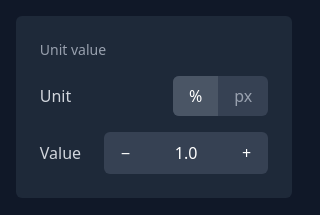
Test case: App.vue › for % unit, input > 100 resets to previous valid value
Replace the text in the field with "50" at (186, 153), box [146, 141, 226, 165]
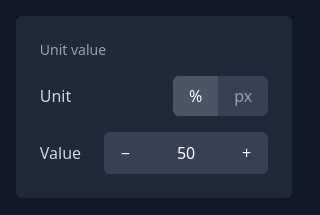
Leave the field, box [146, 141, 226, 165]
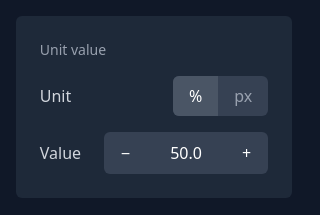
Result: the field holds "50.0"
Replace the text in the field with "150" at (186, 153), box [146, 141, 226, 165]
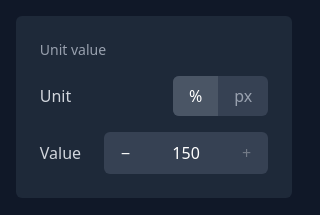
Leave the field, box [146, 141, 226, 165]
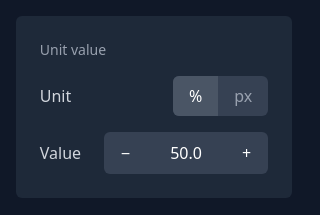
Result: the field holds "50.0" at [146, 141, 226, 165]
